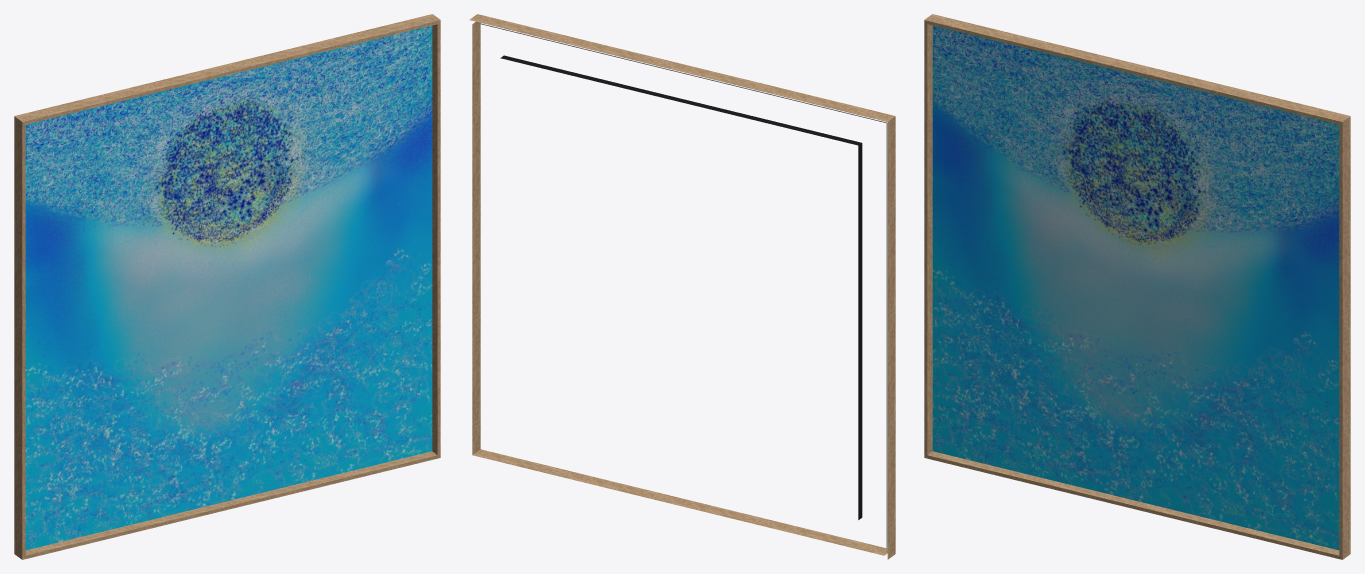
The model's file is va365_grand_caisse-chene.glb.
3 views of the same model, side by side, from view 1: azimuth 30°, elevation 25°; view 2: azimuth 150°, elevation 25°; view 3: azimuth 330°, elevation 25° (orthographic).
Visible parts, largest first — view 1: va365_grand_caisse-chene; view 2: va365_grand_caisse-chene; view 3: va365_grand_caisse-chene.
Part boxes in pixels (x1,y1,x2,y2): va365_grand_caisse-chene: (14, 14, 440, 559); va365_grand_caisse-chene: (469, 14, 895, 559); va365_grand_caisse-chene: (924, 14, 1350, 559).
Bounding box in the file's own units: 1.03 × 1.03 × 0.035.
4 materials, 2 textured.
